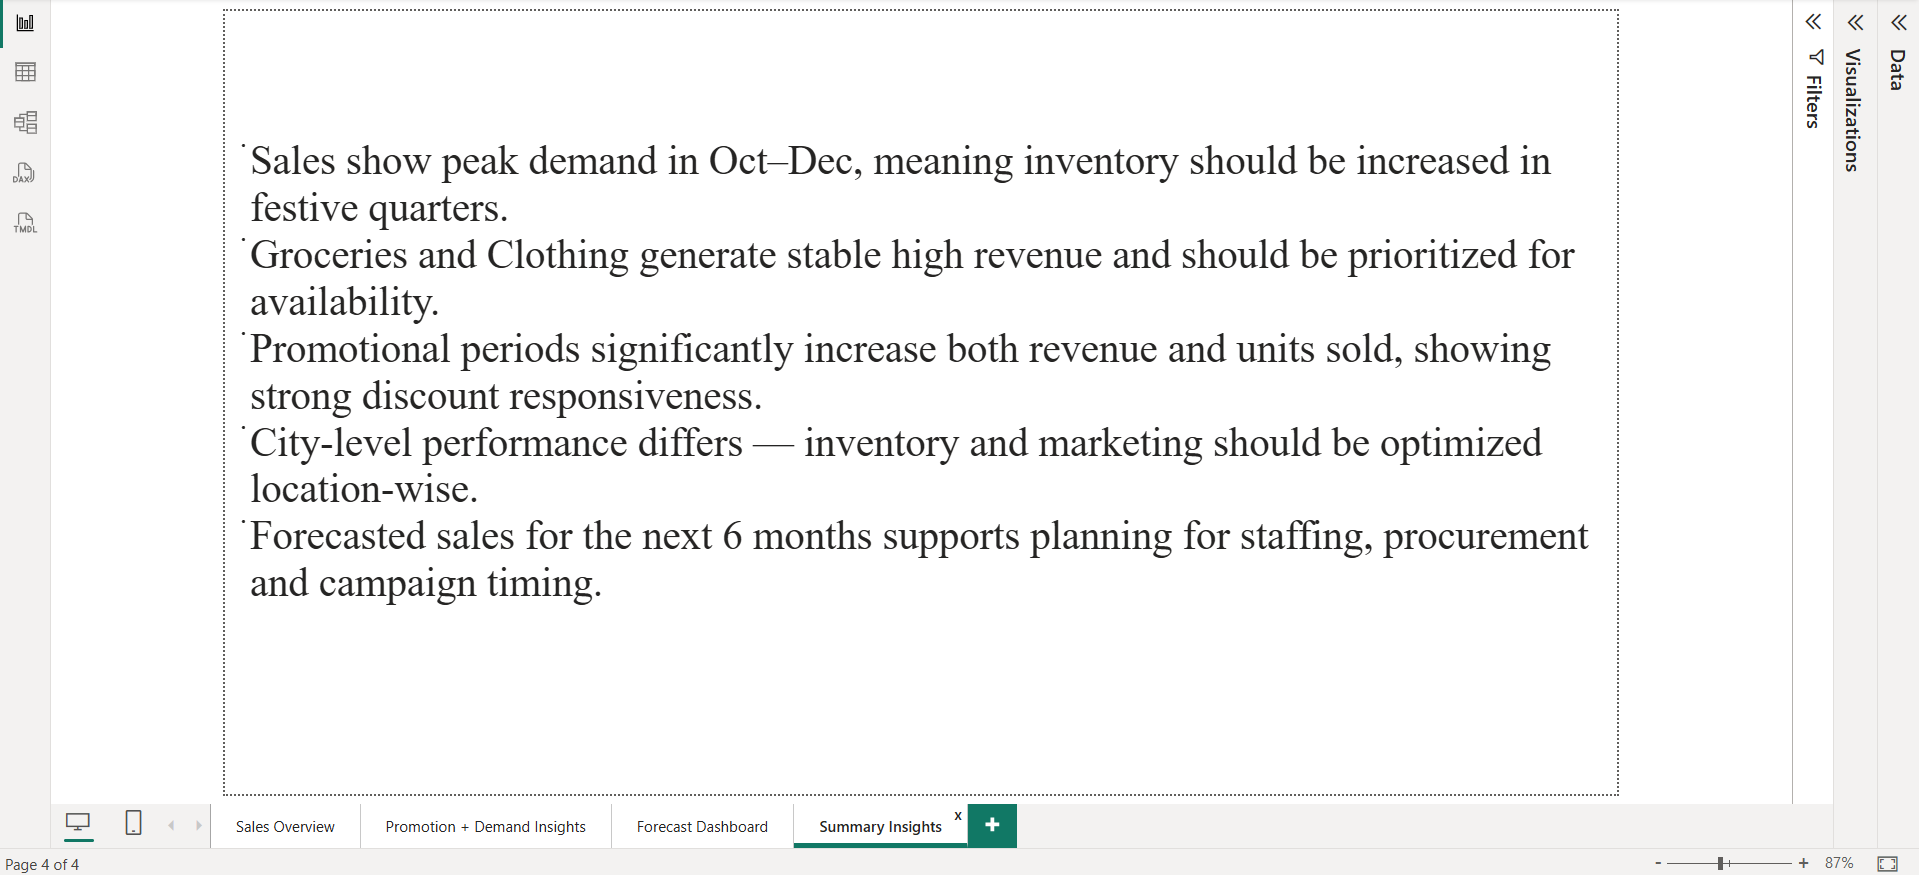

Layout of this report page (visuals, bound fields, positions):
{"tool":"powerbi","page":{"name":"Summary Insights","canvas":[1280,720],"ordinal":3},"visuals":[{"type":"textbox","box":[0,109.8,1280.3,448.7],"z":0}]}

Visuals, with their boxes on the page's 1280x720 design canvas (x1, y1, x2, y2). These are canvas units, not pixel positions in the 1919x875 screenshot, which may show the page scaled, cropped or inside an application window:
textbox: [x1=0, y1=110, x2=1280, y2=558]
